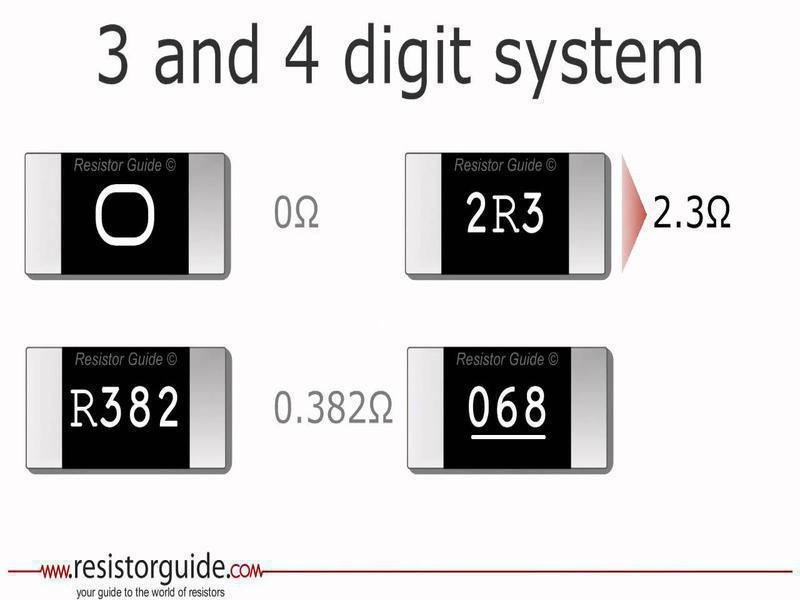SMD resistor: (17, 335, 237, 477), (23, 151, 231, 285)
